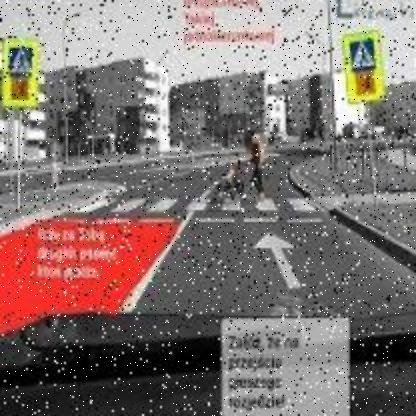Pedestrian Crossing: (344, 38, 380, 74), (6, 46, 38, 78)
